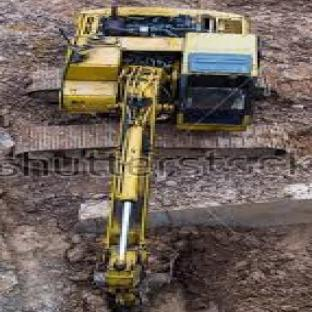ExcavationMachinery: (31, 19, 269, 294)
